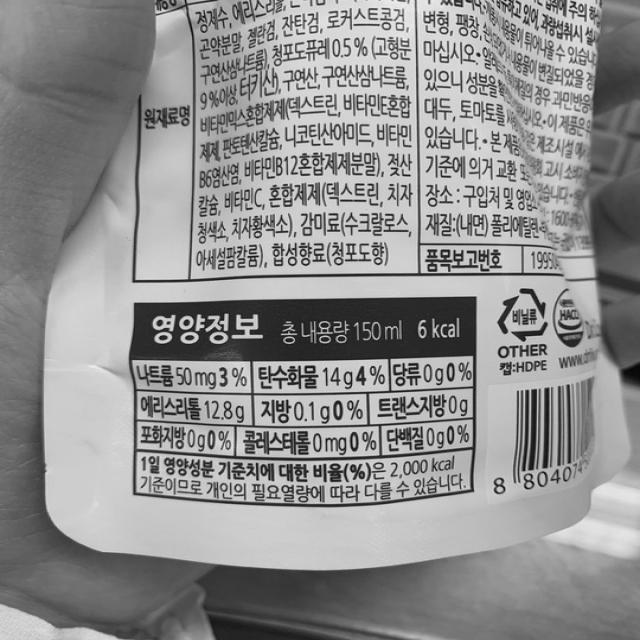Nutrition Label: (117, 295, 482, 512)
